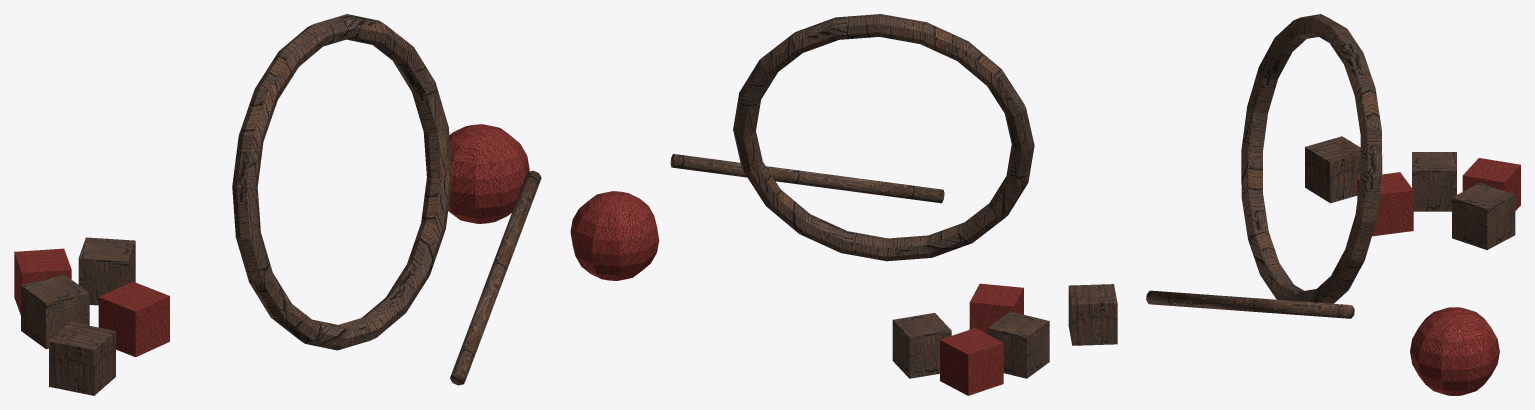
The model's file is prop_yard_toys.glb.
The picture shows the model from 3 angles, left to right: view 1: azimuth 30°, elevation 25°; view 2: azimuth 150°, elevation 25°; view 3: azimuth 270°, elevation 25°; orthographic projection. The views are drawn at different scales.
Parts seen in each view (by area): view 1: hoop, ball, block2, block1, stick, block0, block3, block4; view 2: hoop, ball, stick, block4, block0, block2, block3, block1; view 3: hoop, ball, block3, block2, stick, block0, block1, block4.
Boxes of the visible parts, x1,y1,x2,y2 form: hoop: [232, 14, 452, 350]; ball: [448, 124, 529, 223]; block2: [49, 322, 115, 395]; block1: [98, 281, 169, 357]; stick: [450, 170, 541, 385]; block0: [21, 274, 89, 349]; block3: [78, 237, 135, 305]; block4: [14, 248, 71, 314]; hoop: [733, 14, 1034, 261]; ball: [570, 191, 659, 280]; stick: [670, 154, 944, 203]; block4: [940, 328, 1003, 395]; block0: [987, 311, 1049, 378]; block2: [1068, 284, 1117, 345]; block3: [892, 313, 951, 378]; block1: [969, 283, 1023, 333]; hoop: [1241, 14, 1382, 303]; ball: [1410, 307, 1499, 395]; block3: [1452, 183, 1515, 249]; block2: [1305, 136, 1360, 203]; stick: [1146, 290, 1354, 318]; block0: [1412, 152, 1456, 211]; block1: [1357, 172, 1413, 236]; block4: [1462, 158, 1520, 210].
Size of the model in its own units: 1.35 by 0.72 by 0.9163.
Materials: 3 (3 with a texture image).
